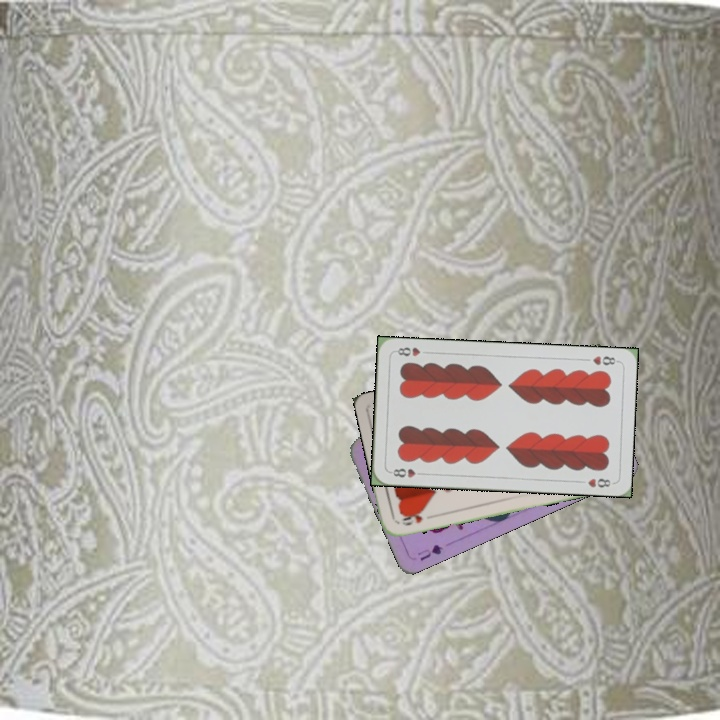GU: (413, 540, 446, 563)
H8: (386, 464, 427, 480), (589, 352, 621, 368)
HO: (398, 507, 427, 528)
